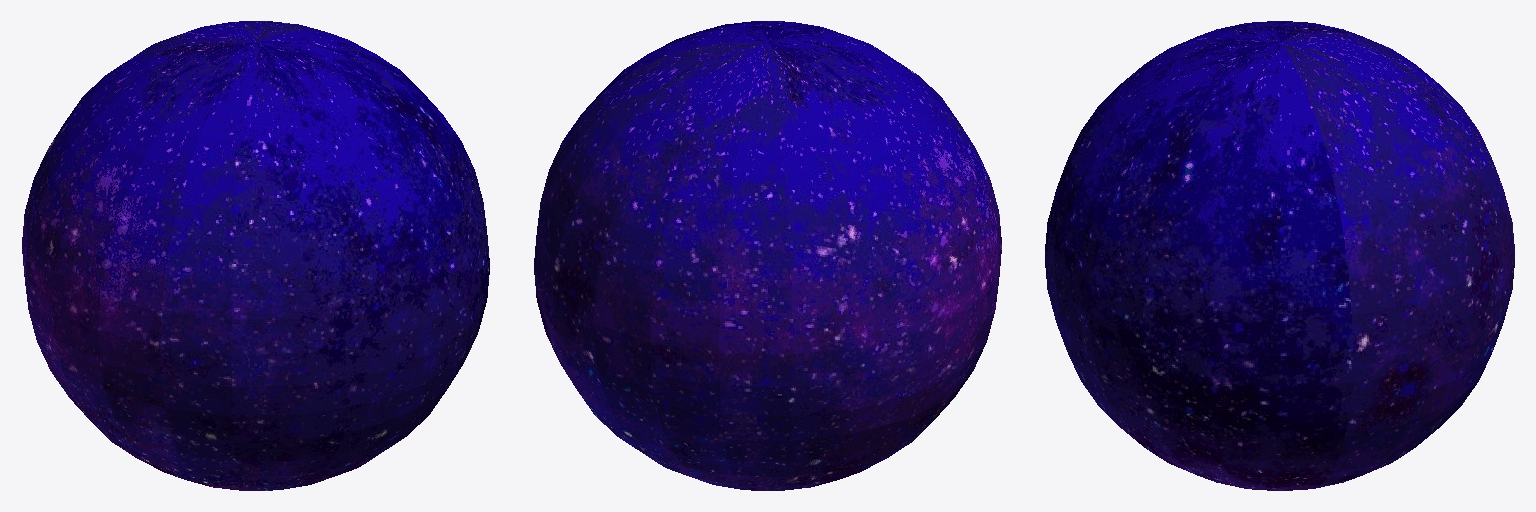
3 renders of one model, left to right at view 1: azimuth 30°, elevation 25°; view 2: azimuth 150°, elevation 25°; view 3: azimuth 270°, elevation 25°, orthographic.
Parts seen in each view (by area): view 1: BG:pSphere1; view 2: BG:pSphere1; view 3: BG:pSphere1.
Boxes of the visible parts, x1=… form: BG:pSphere1: x1=22, y1=21, x2=489, y2=490; BG:pSphere1: x1=534, y1=21, x2=1001, y2=490; BG:pSphere1: x1=1045, y1=21, x2=1514, y2=490.
Size of the model in its own units: 2 by 2 by 2.
Materials: 1 (1 with a texture image).